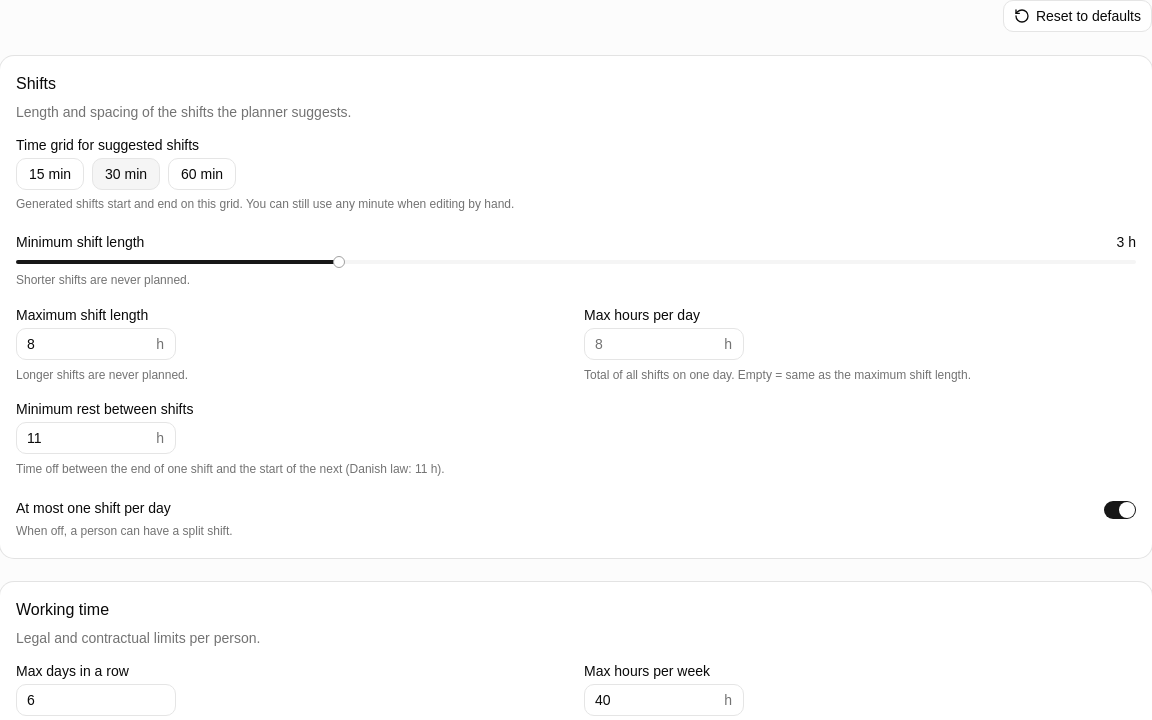
Test: AdvancedScreen › resets every setting to the backend defaults
Click the button "Reset to defaults": (1077, 16) x1=1003 y1=0 x2=1151 y2=32
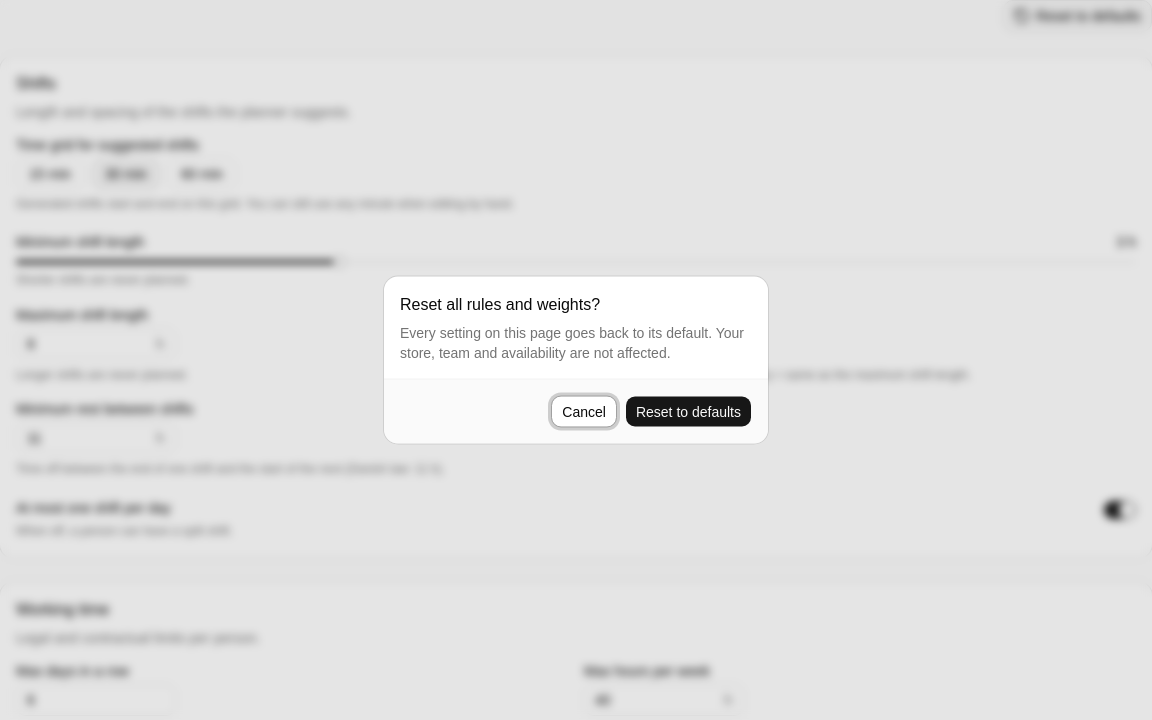
Click the button "Reset to defaults": (688, 412) x1=625 y1=396 x2=752 y2=428
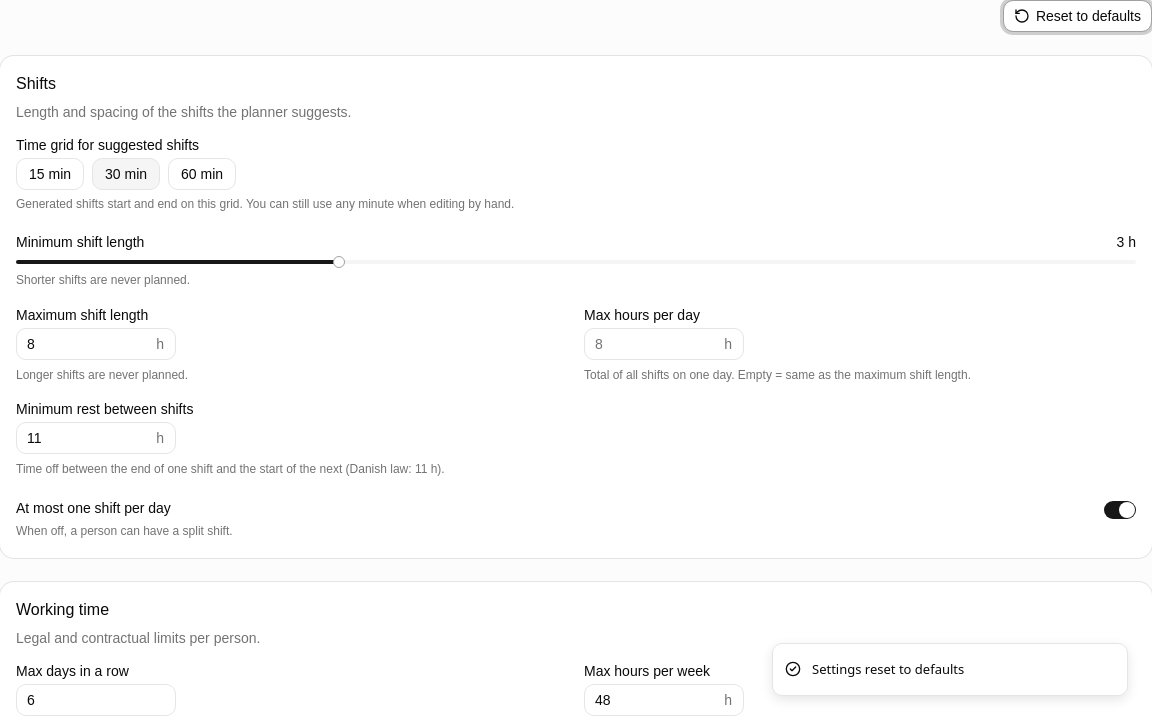
Expected: the text "Settings reset to defaults" is shown, x1=812 y1=660 x2=964 y2=679
